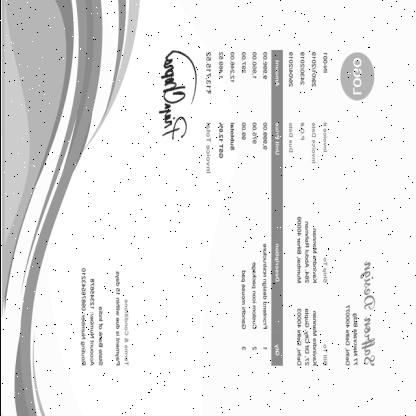Paragraph: (78, 265, 130, 369), (286, 51, 328, 166), (203, 49, 236, 176), (344, 260, 376, 368), (294, 215, 328, 285), (295, 307, 328, 368)
Table: (237, 50, 282, 366)
